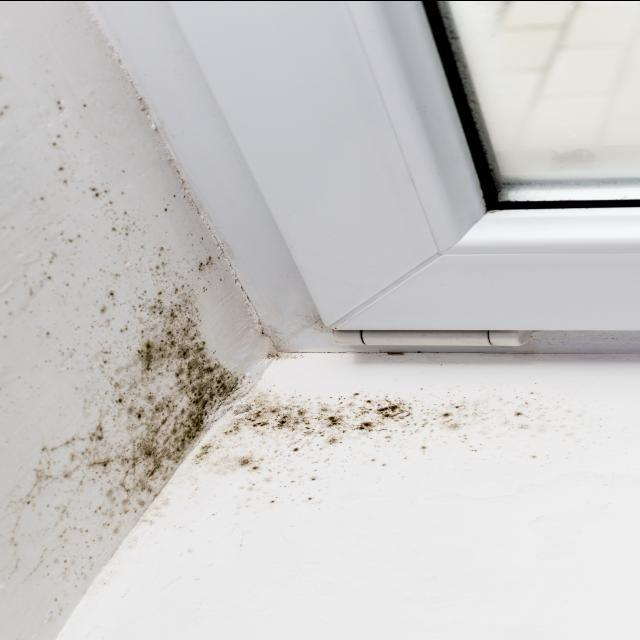Crack: (243, 287, 371, 362)
leak: (9, 81, 240, 608), (241, 378, 554, 499)
